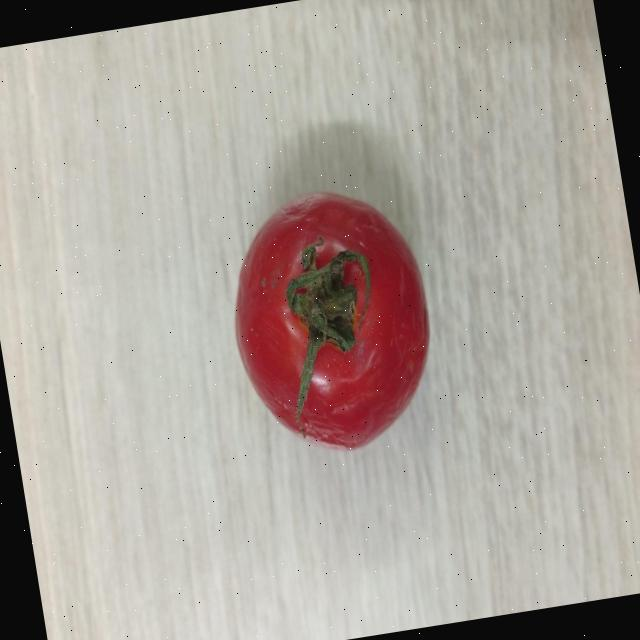Tomato: (208, 176, 451, 467)
